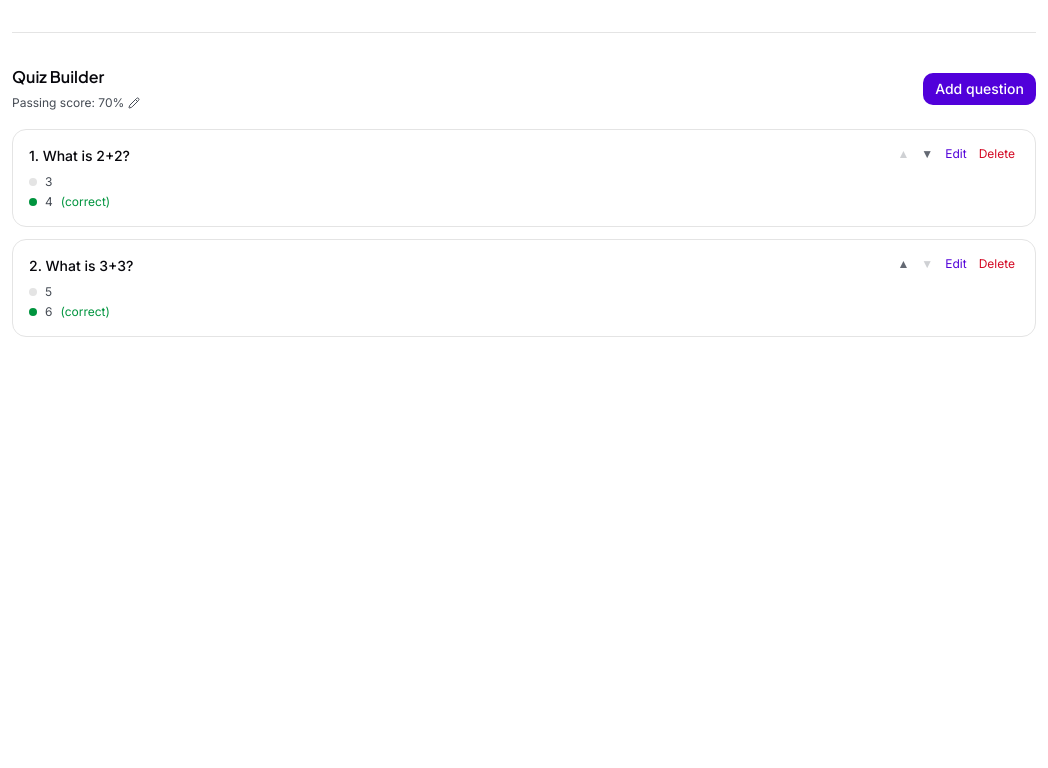
QuizBuilder › shows add form when Add question is clicked
What coordinates should you click on to do the following:
click the button "Add question"
I would click on:
 (980, 89)
Its box is [923,73,1036,105].
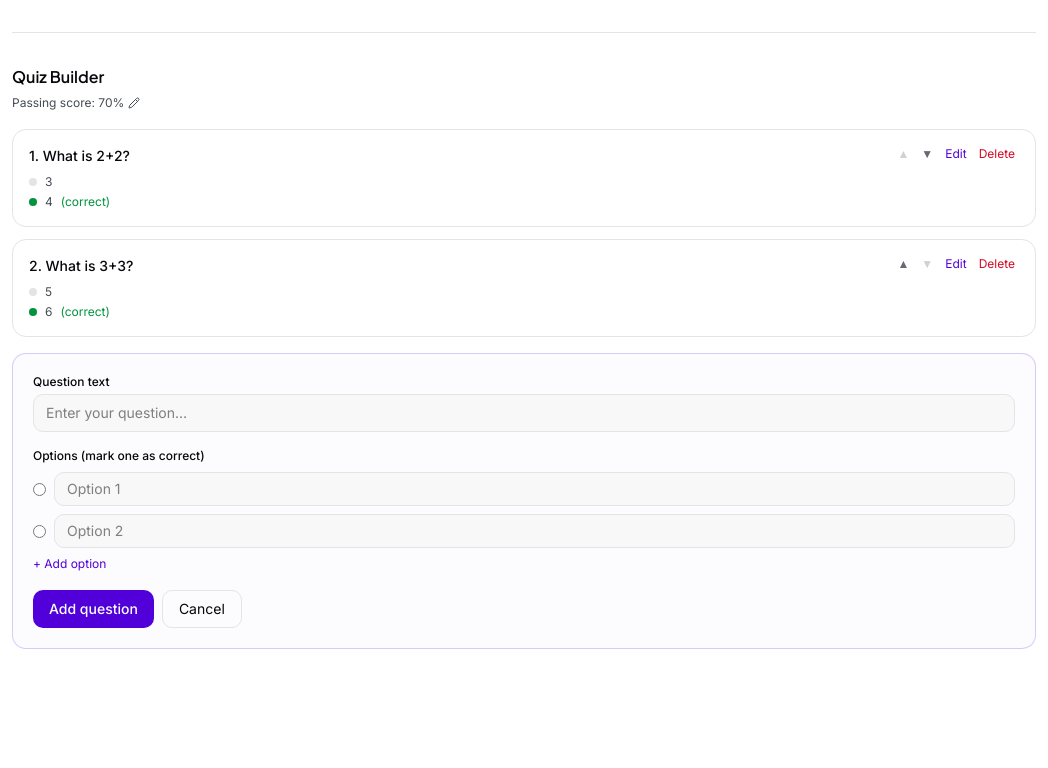
Result: the field with placeholder "Enter your question…" is shown at [33,394,1015,432]
Result: the button "+ Add option" is shown at [33,556,106,572]
